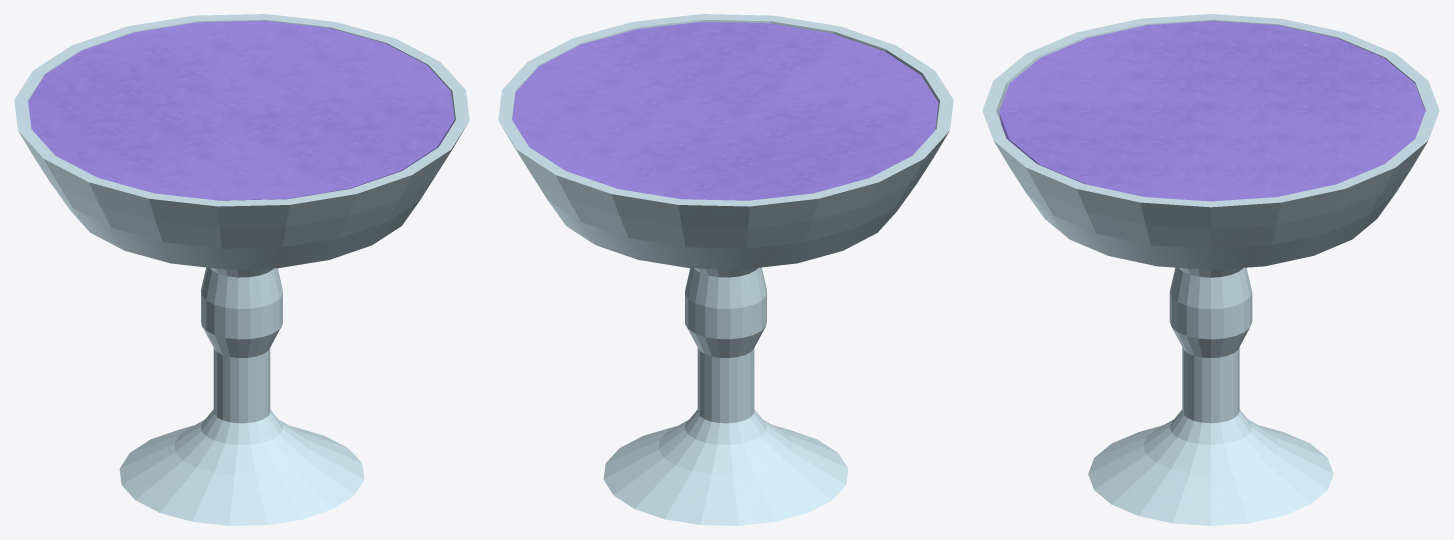
The model's file is GinTonica.fbx.
The picture shows the model from 3 angles, left to right: view 1: azimuth 30°, elevation 25°; view 2: azimuth 150°, elevation 25°; view 3: azimuth 270°, elevation 25°; orthographic projection.
Parts seen in each view (by area): view 1: pCylinder4; view 2: pCylinder4; view 3: pCylinder4.
Part boxes in pixels (x1=…): pCylinder4: x1=14, y1=14, x2=469, y2=525; pCylinder4: x1=498, y1=14, x2=953, y2=525; pCylinder4: x1=982, y1=14, x2=1439, y2=525.
Size of the model in its own units: 7.63 by 6.69 by 7.63.
1 material, 1 textured.
